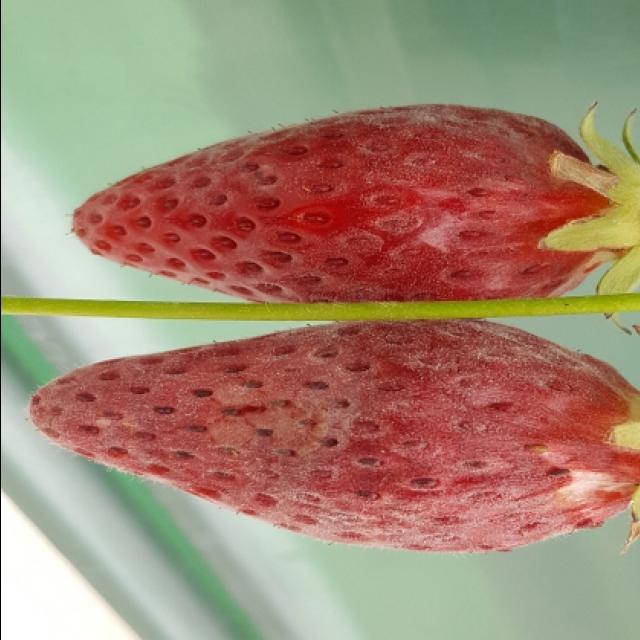Powdery Mildew Fruit: (25, 318, 640, 556), (67, 104, 617, 307)
